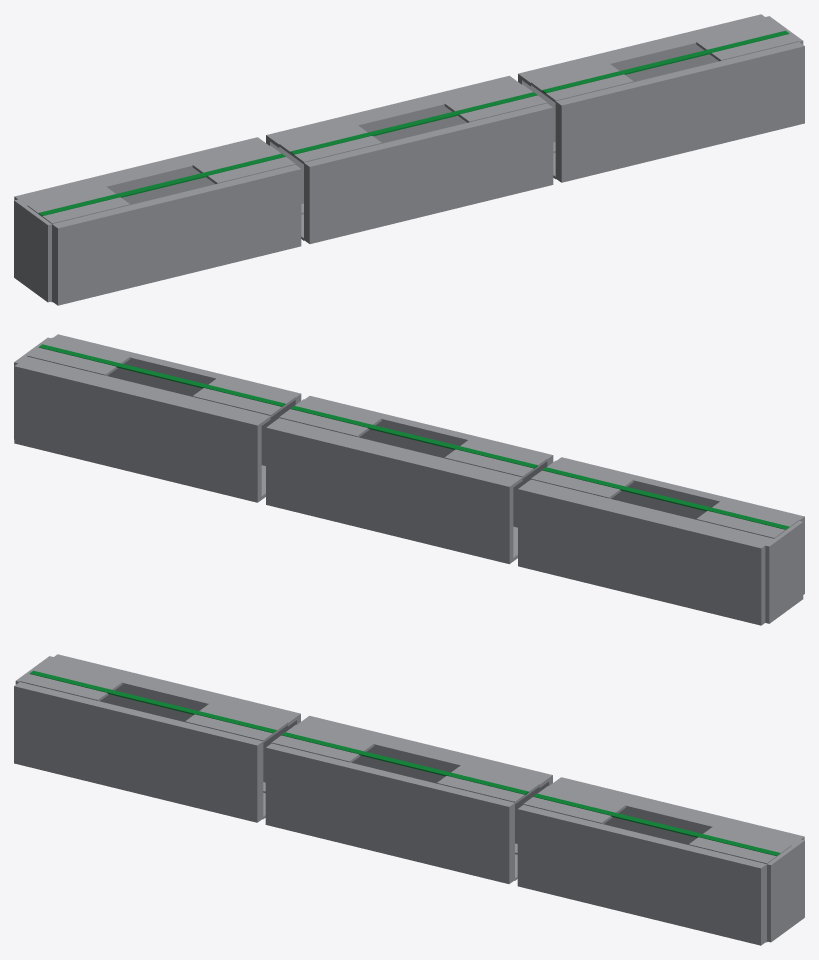
The model's file is metro_train_green_open.obj.
The picture shows the model from 3 angles, top to bottom: view 1: azimuth 30°, elevation 25°; view 2: azimuth 150°, elevation 25°; view 3: azimuth 330°, elevation 25°; orthographic projection.
Visible parts, largest first — view 1: metro_train_green_open; view 2: metro_train_green_open; view 3: metro_train_green_open.
Part boxes in pixels (left/top/right/bottom): metro_train_green_open: left=14, top=14, right=804, bottom=305; metro_train_green_open: left=14, top=334, right=804, bottom=625; metro_train_green_open: left=14, top=654, right=804, bottom=945.
Bounding box in the file's own units: 9 × 0.91 × 0.9.
